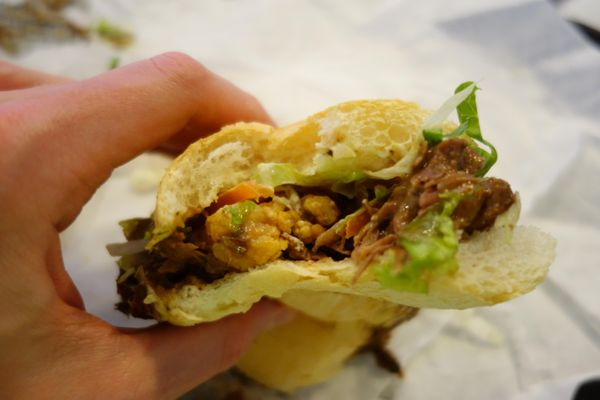soup: (107, 81, 555, 325)
